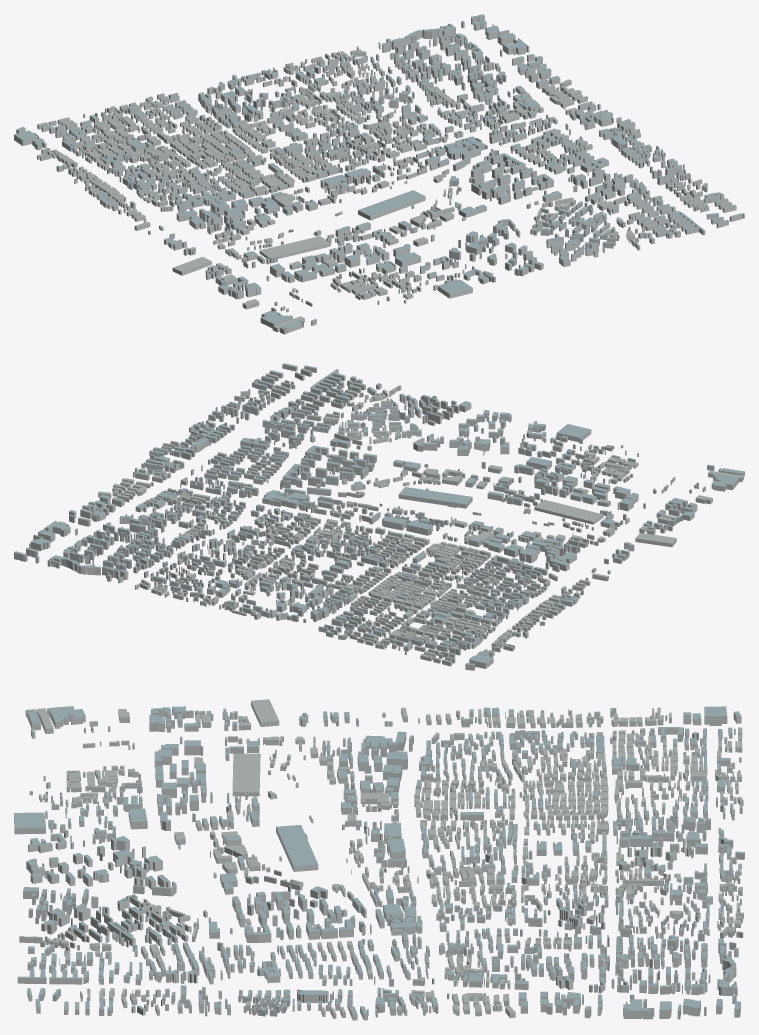
Rendered from far.glb.
The picture shows the model from 3 angles, top to bottom: view 1: azimuth 30°, elevation 25°; view 2: azimuth 150°, elevation 25°; view 3: azimuth 270°, elevation 25°; orthographic projection. The views are drawn at different scales.
Bounding box in the file's own units: 2199 × 37.19 × 2145.
